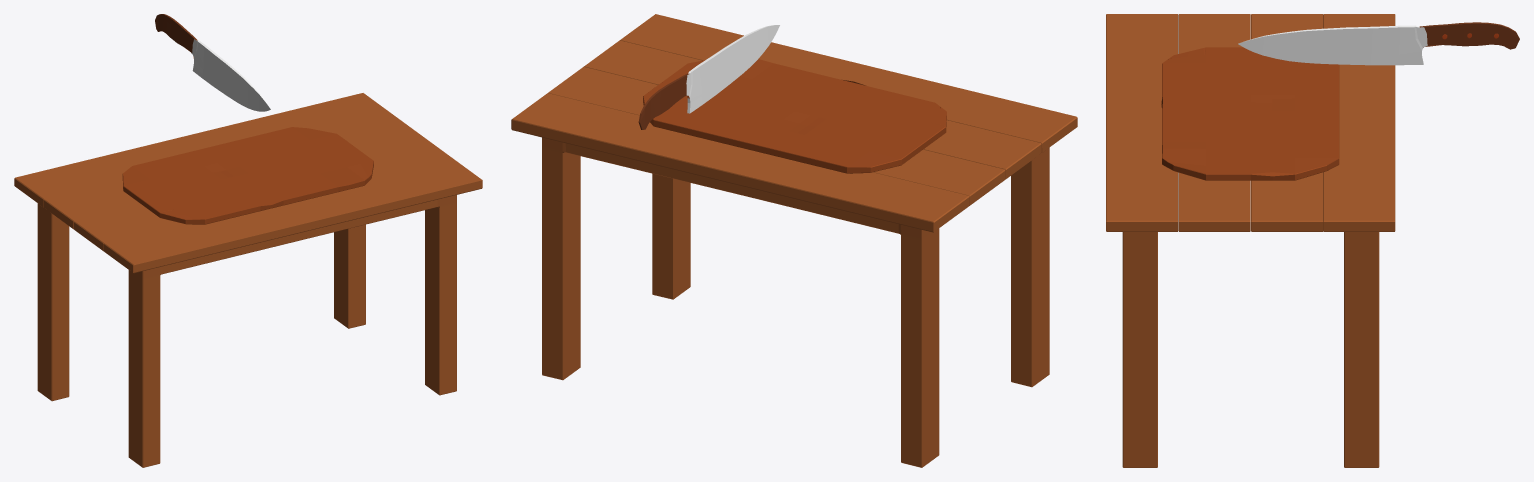
File: 5Level.fbx
3 renders of one model, left to right at view 1: azimuth 30°, elevation 25°; view 2: azimuth 150°, elevation 25°; view 3: azimuth 270°, elevation 25°, orthographic. The views are drawn at different scales.
Parts seen in each view (by area): view 1: Cube.006, Cube.009, Cube.007, Cube.002, Cube; view 2: Cube.006, Cube.002, Cube.009, Cube.007, Cube; view 3: Cube.006, Cube.009, Cube.007, Cube.002, Cube.
Boxes of the visible parts, x1,y1,x2,y2 form: Cube.006: (14, 93, 482, 273); Cube.009: (122, 127, 373, 224); Cube.007: (128, 195, 456, 467); Cube.002: (37, 203, 365, 401); Cube: (155, 14, 270, 111); Cube.006: (511, 14, 1077, 232); Cube.002: (542, 137, 939, 467); Cube.009: (643, 59, 946, 173); Cube.007: (652, 147, 1049, 387); Cube: (638, 25, 779, 129); Cube.006: (1106, 14, 1395, 231); Cube.009: (1161, 47, 1339, 180); Cube.007: (1122, 232, 1157, 467); Cube.002: (1344, 232, 1379, 467); Cube: (1238, 22, 1519, 65).
Size of the model in its own units: 448 by 366 by 378.
